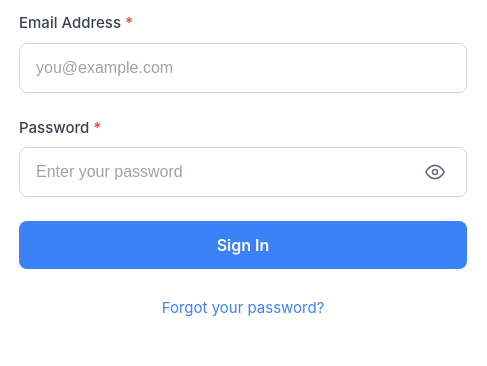
Scenario: LoginForm › Password Validation › should show error for empty password on blur
The image size is (487, 366).
Click the password field labelled "Password*": (243, 172) [19,147,467,197]
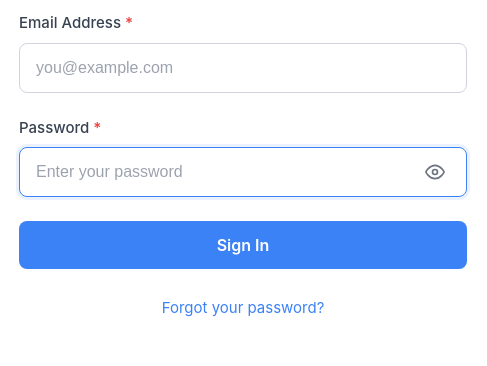
Press Tab
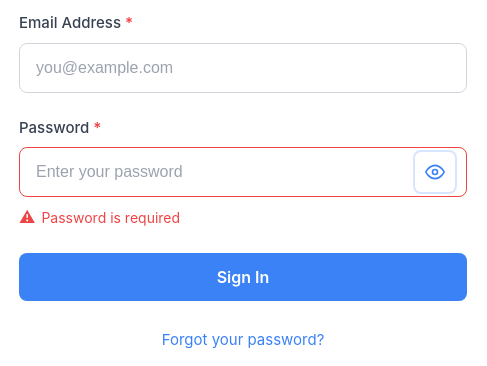
Now the text "Password is required" is shown, box [41,208,180,226]
